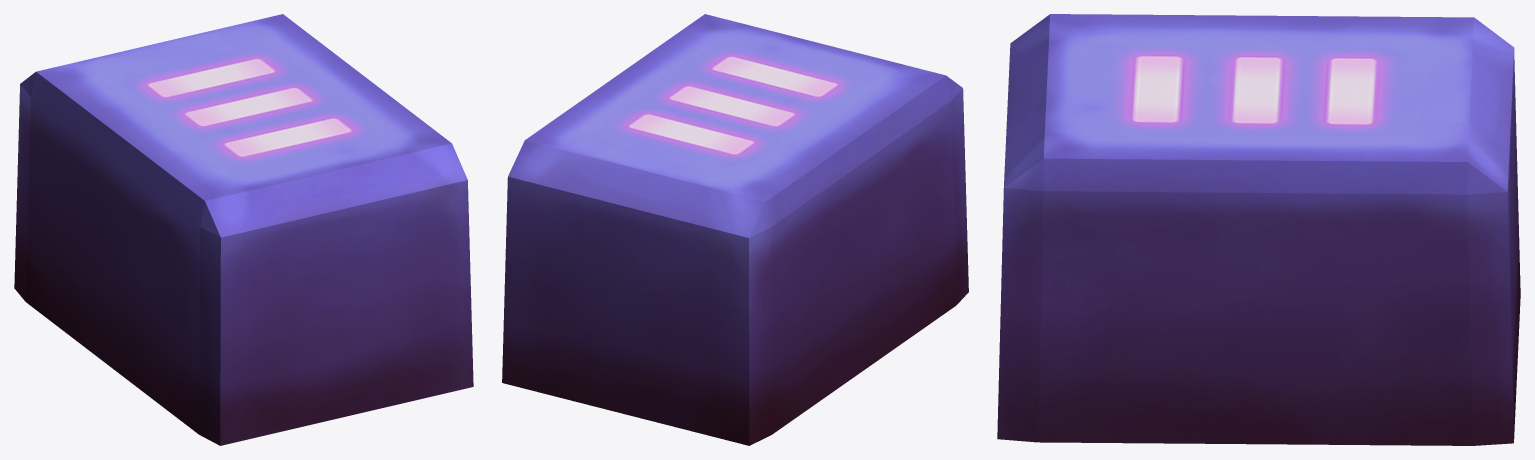
Rendered from brick.fbx.
The picture shows the model from 3 angles, left to right: view 1: azimuth 30°, elevation 25°; view 2: azimuth 150°, elevation 25°; view 3: azimuth 270°, elevation 25°; orthographic projection. The views are drawn at different scales.
Visible parts, largest first — view 1: Mesh122; view 2: Mesh122; view 3: Mesh122.
Boxes of the visible parts, x1,y1,x2,y2 form: Mesh122: (14, 14, 473, 445); Mesh122: (502, 14, 968, 445); Mesh122: (997, 14, 1520, 445).
Size of the model in its own units: 0.9637 by 0.7956 by 1.35.
